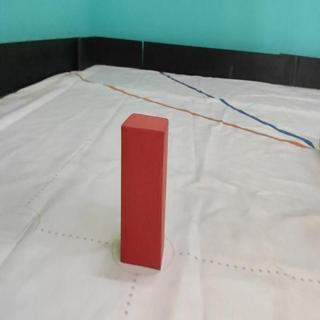redbox: (121, 113, 166, 270)
